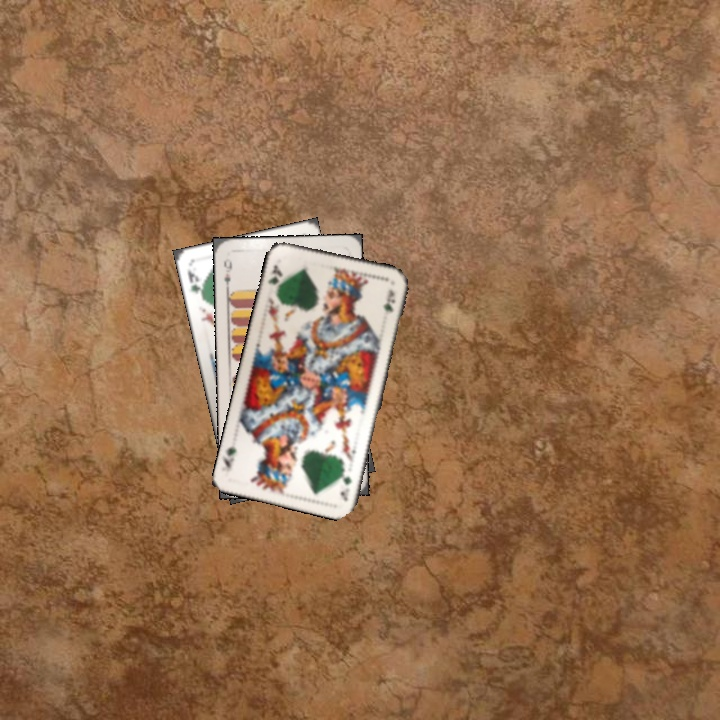E9: (220, 255, 234, 293)
GK: (184, 266, 206, 300), (263, 261, 285, 287), (337, 472, 354, 504)
